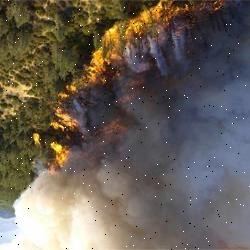fire: (40, 3, 227, 174)
